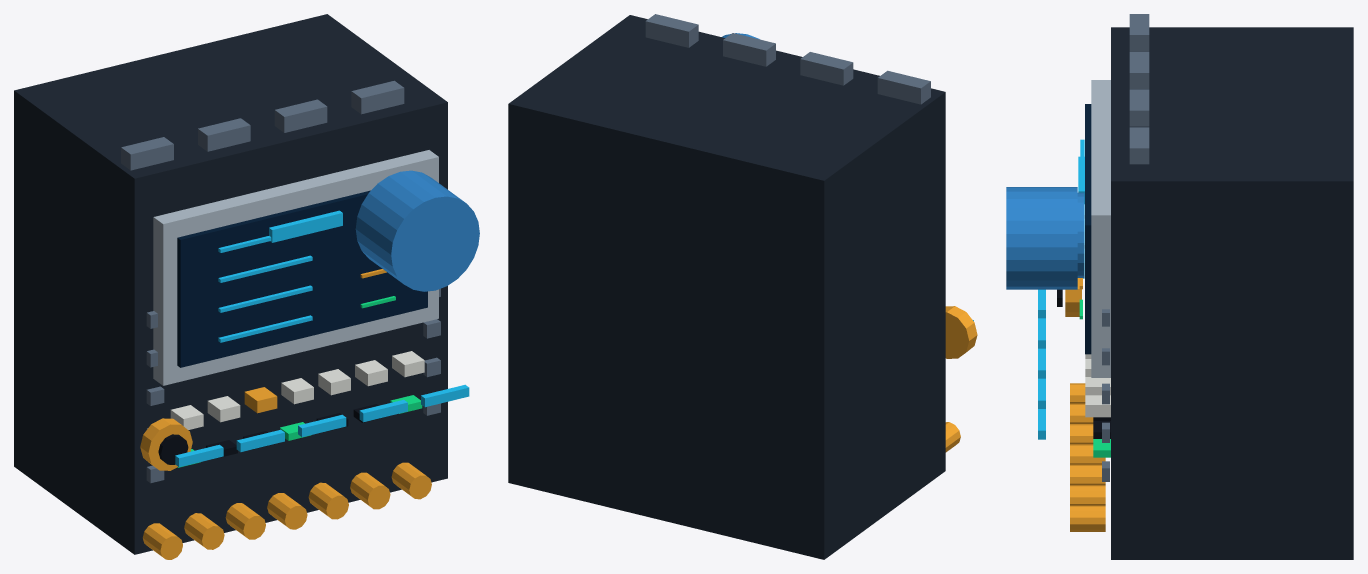
The model's file is 46_L87_RotorShaftOrbitProbe.fbx.
3 views of the same model, side by side, from view 1: azimuth 30°, elevation 25°; view 2: azimuth 150°, elevation 25°; view 3: azimuth 270°, elevation 25° (orthographic).
Parts seen in each view (by area): view 1: L87_RotorShaftOrbitProbe, L87_RotorShaftOrbitProbe_Part_0012, L87_RotorShaftOrbitProbe_Part_0010, L87_RotorShaftOrbitProbe_Part_0013, L87_RotorShaftOrbitProbe_Part_0011, L87_RotorShaftOrbitProbe_Part_0014; view 2: L87_RotorShaftOrbitProbe, L87_RotorShaftOrbitProbe_Part_0010, L87_RotorShaftOrbitProbe_Part_0013; view 3: L87_RotorShaftOrbitProbe, L87_RotorShaftOrbitProbe_Part_0012, L87_RotorShaftOrbitProbe_Part_0010, L87_RotorShaftOrbitProbe_Part_0013.
Part boxes in pixels (x1,y1,x2,y2): L87_RotorShaftOrbitProbe: (14, 14, 469, 559); L87_RotorShaftOrbitProbe_Part_0012: (355, 170, 479, 291); L87_RotorShaftOrbitProbe_Part_0010: (121, 80, 404, 170); L87_RotorShaftOrbitProbe_Part_0013: (140, 418, 192, 470); L87_RotorShaftOrbitProbe_Part_0011: (269, 210, 342, 242); L87_RotorShaftOrbitProbe_Part_0014: (158, 434, 188, 464); L87_RotorShaftOrbitProbe: (508, 15, 973, 559); L87_RotorShaftOrbitProbe_Part_0010: (645, 14, 930, 104); L87_RotorShaftOrbitProbe_Part_0013: (945, 306, 977, 358); L87_RotorShaftOrbitProbe: (1038, 27, 1353, 559); L87_RotorShaftOrbitProbe_Part_0012: (1006, 187, 1077, 289); L87_RotorShaftOrbitProbe_Part_0010: (1129, 14, 1149, 164); L87_RotorShaftOrbitProbe_Part_0013: (1065, 278, 1081, 316).
Size of the model in its own units: 94.4 by 110 by 87.6.
